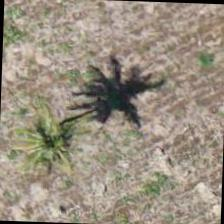Kelapa_Sawit: (13, 88, 106, 182)
